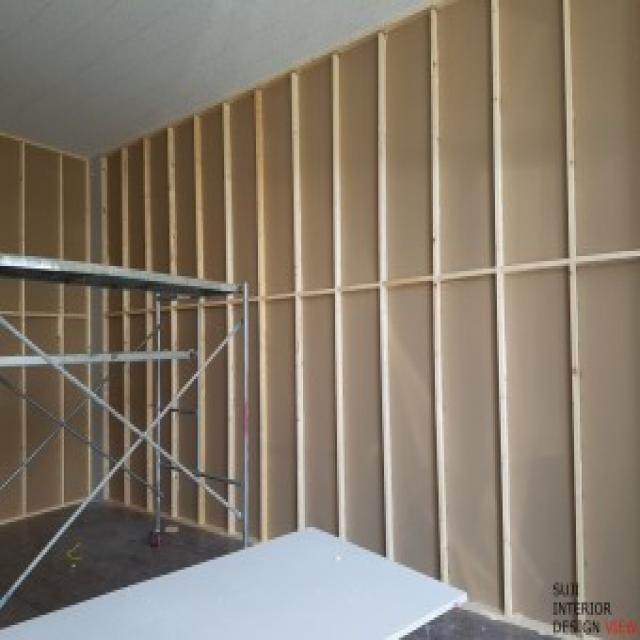stud: (102, 0, 640, 640), (0, 128, 90, 528)
